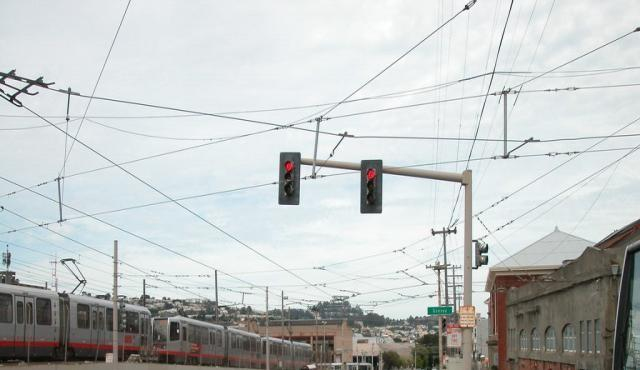red_light: (359, 159, 383, 214), (279, 151, 299, 205)
